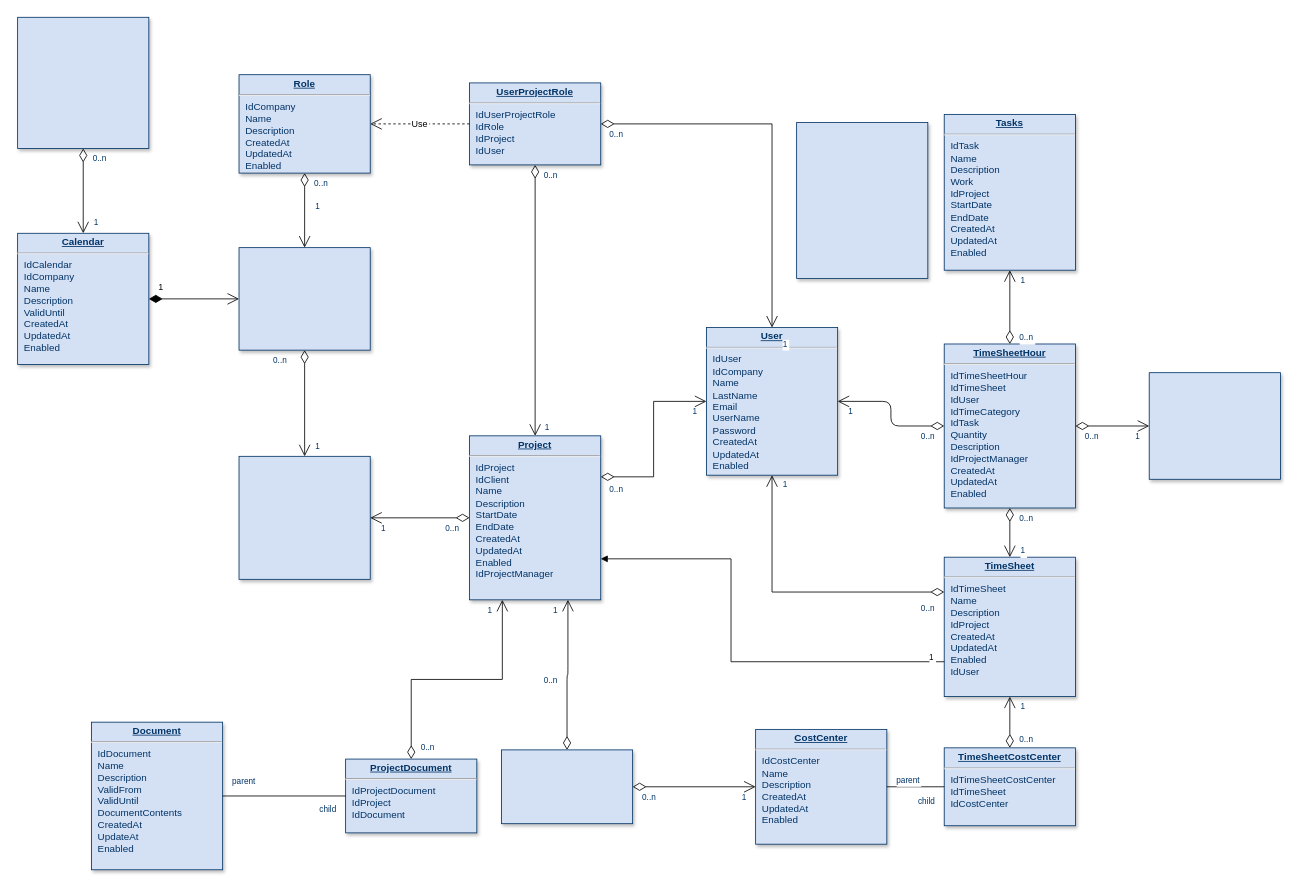
Image size: 1300x891. Some labels were removed from this diagram. The centre of each missing label's shape, as x and y in pixels:
"Client IdClient IdCompany Name Description CreatedAt UpdatedAt Enabled" goes at point 305,518.
"Company Name Description CreatedAt UpdatedAt Enabled" goes at point 305,300.
"Holiday IdHoliday IdCalendar Name Description Date CreatedAt UpdatedAt Enabled" goes at point 84,83.
"ProjectCostCenter IdProjectCostCenter IdProject IdCostCenter" goes at point 567,787.
"Tasks IdTransaction CreatedAt UpdatedAt" goes at point 863,201.
"TimeCategory IdTimeCategory Name Description CreatedAt UpdatedAt Enabled" goes at point 1215,427.
